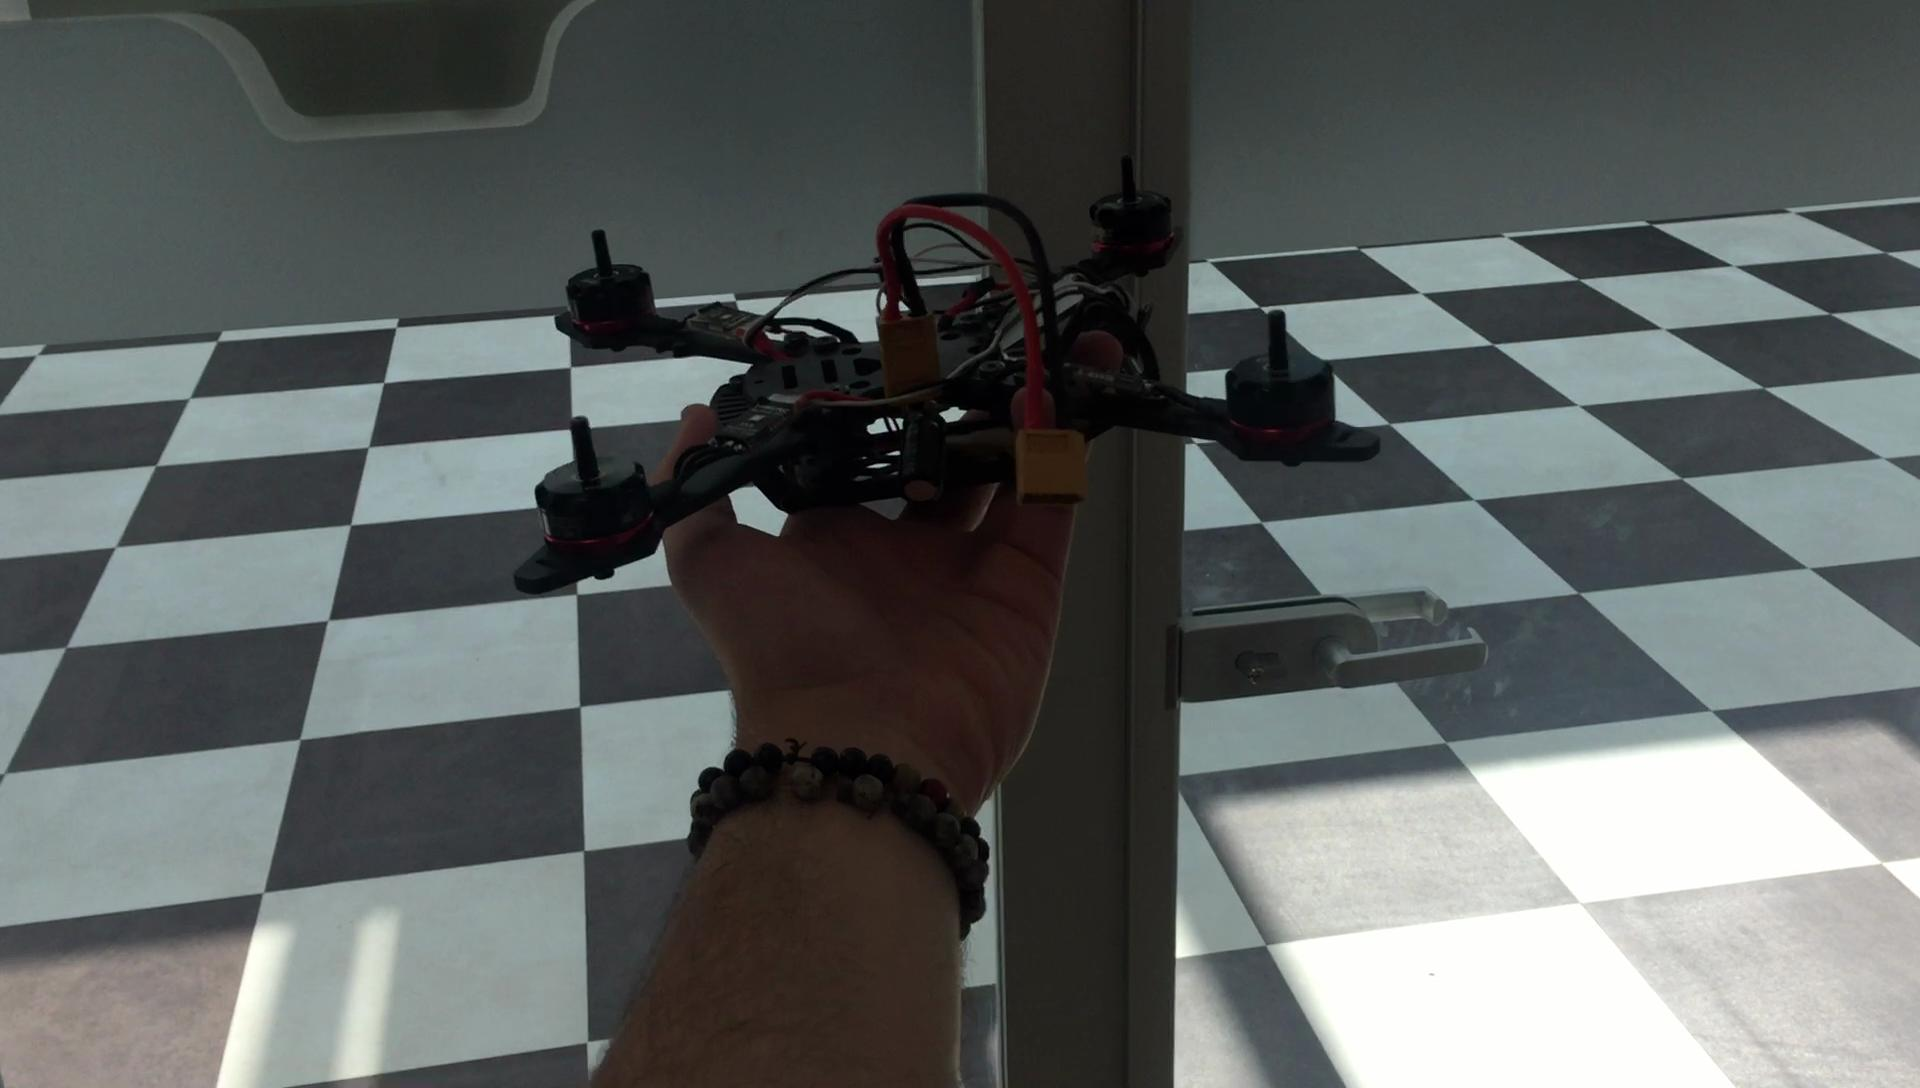drone: (489, 158, 1401, 606)
